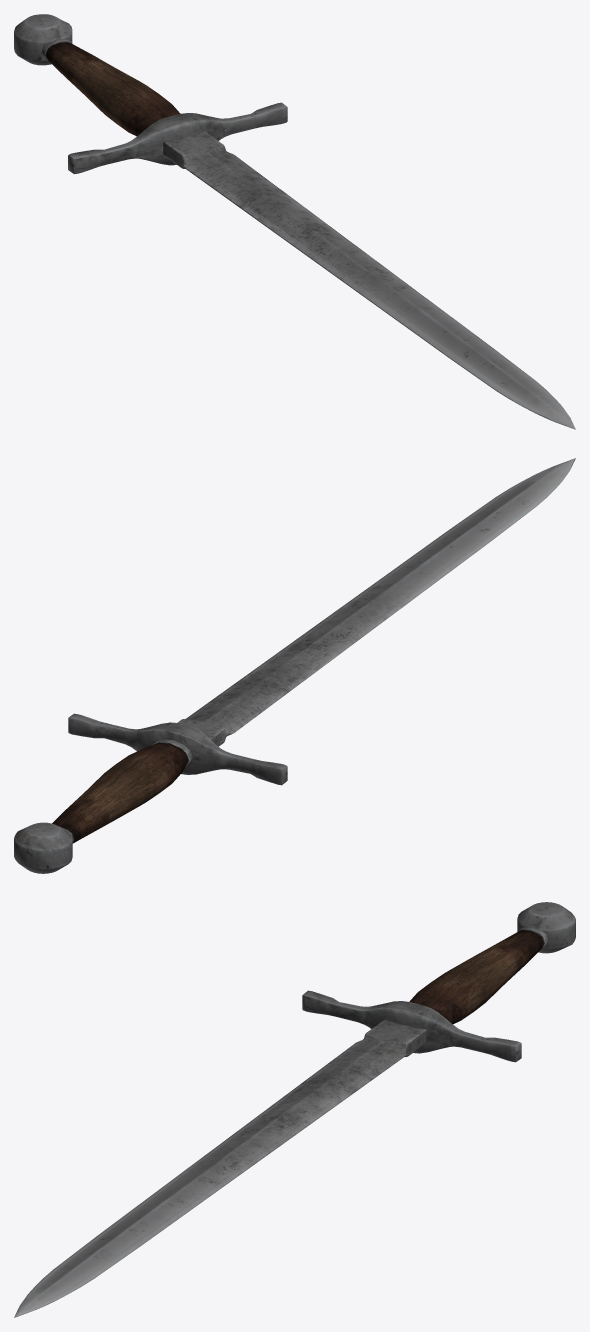
File: shortsword.fbx
The picture shows the model from 3 angles, top to bottom: view 1: azimuth 30°, elevation 25°; view 2: azimuth 150°, elevation 25°; view 3: azimuth 330°, elevation 25°; orthographic projection.
Parts seen in each view (by area): view 1: WP_A_0199; view 2: WP_A_0199; view 3: WP_A_0199.
Boxes of the visible parts, x1,y1,x2,y2 form: WP_A_0199: (14, 14, 575, 429); WP_A_0199: (14, 458, 575, 873); WP_A_0199: (14, 902, 575, 1317).
Size of the model in its own units: 20.43 by 3.68 by 90.22.
Materials: 1 (1 with a texture image).
